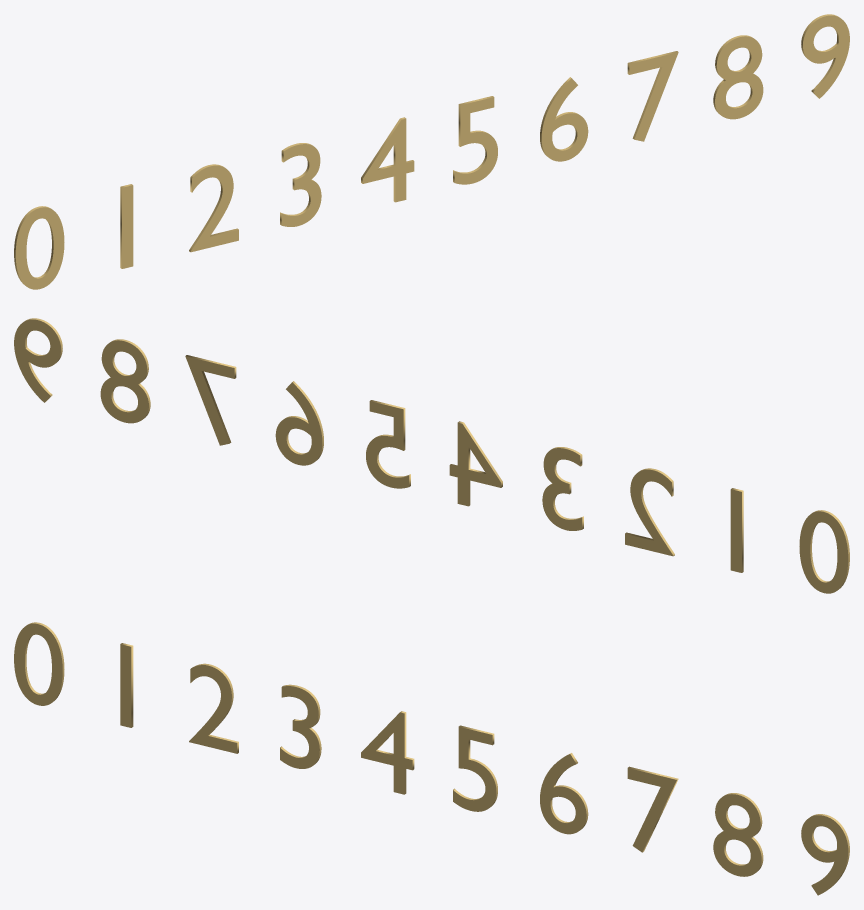
File: PRP_Digitos.fbx
The picture shows the model from 3 angles, top to bottom: view 1: azimuth 30°, elevation 25°; view 2: azimuth 150°, elevation 25°; view 3: azimuth 330°, elevation 25°; orthographic projection.
Visible parts, largest first — view 1: D8, D0, D9, D6, D4, D5, D2, D3, D7, D1; view 2: D8, D0, D9, D6, D4, D5, D2, D3, D7, D1; view 3: D8, D0, D9, D6, D5, D4, D2, D3, D7, D1.
Boxes of the visible parts, x1=… form: D8: x1=713, y1=35, x2=763, y2=119; D0: x1=14, y1=206, x2=64, y2=289; D9: x1=801, y1=14, x2=849, y2=98; D6: x1=540, y1=77, x2=588, y2=161; D4: x1=361, y1=117, x2=414, y2=202; D5: x1=453, y1=96, x2=497, y2=184; D2: x1=189, y1=164, x2=238, y2=252; D3: x1=280, y1=143, x2=321, y2=226; D7: x1=627, y1=51, x2=678, y2=141; D1: x1=120, y1=184, x2=133, y2=268; D8: x1=100, y1=339, x2=150, y2=423; D0: x1=799, y1=510, x2=849, y2=593; D9: x1=14, y1=318, x2=62, y2=402; D6: x1=275, y1=381, x2=323, y2=465; D4: x1=449, y1=421, x2=502, y2=506; D5: x1=366, y1=400, x2=410, y2=488; D2: x1=625, y1=468, x2=674, y2=556; D3: x1=542, y1=447, x2=583, y2=530; D7: x1=185, y1=355, x2=236, y2=445; D1: x1=730, y1=488, x2=743, y2=572; D8: x1=713, y1=793, x2=763, y2=876; D0: x1=14, y1=622, x2=64, y2=705; D9: x1=801, y1=814, x2=849, y2=895; D6: x1=540, y1=753, x2=588, y2=834; D5: x1=453, y1=725, x2=497, y2=811; D4: x1=361, y1=711, x2=414, y2=794; D2: x1=189, y1=663, x2=238, y2=753; D3: x1=280, y1=684, x2=321, y2=768; D7: x1=627, y1=766, x2=678, y2=852; D1: x1=120, y1=643, x2=133, y2=727.
Size of the model in its own units: 0.8593 by 0.08 by 0.003.
